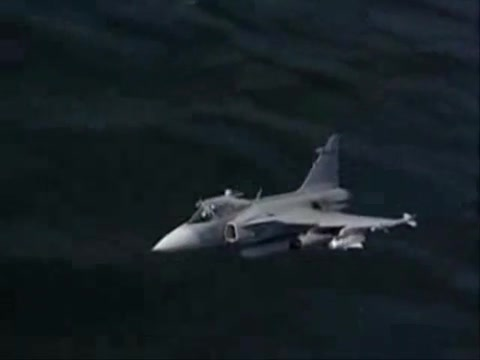aeroplane: (151, 131, 417, 268)
